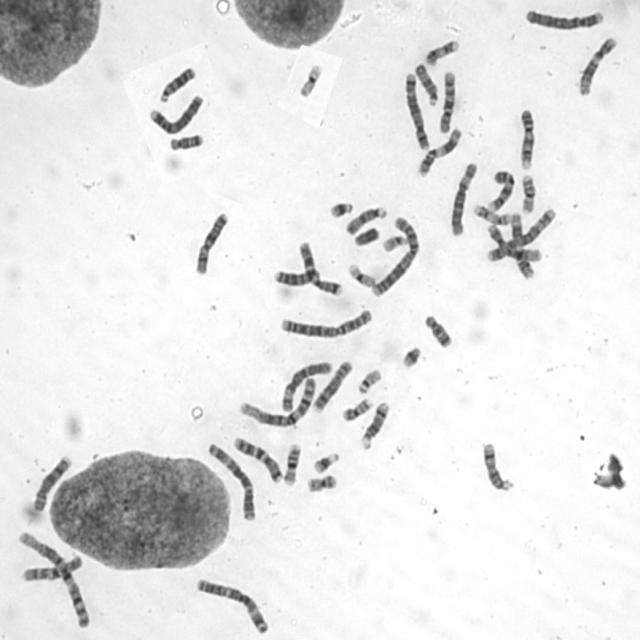A1: (16, 526, 93, 631), (236, 374, 317, 428)
A2: (368, 213, 421, 299), (276, 304, 374, 340)
A3: (192, 575, 270, 636), (205, 438, 258, 523)
B4: (145, 91, 206, 137), (522, 4, 606, 32)
B5: (484, 205, 558, 264), (402, 69, 431, 152)
C10: (19, 552, 85, 583), (437, 69, 457, 135)
C11: (414, 124, 462, 178), (509, 210, 536, 280)
C12: (576, 34, 619, 96), (486, 222, 543, 262)
C6: (278, 358, 333, 414), (448, 158, 480, 238)
C7: (230, 432, 284, 486), (297, 238, 344, 298)
C8: (27, 452, 72, 516), (312, 358, 354, 414)
C9: (485, 168, 517, 214), (518, 106, 536, 172)
D13: (157, 63, 197, 104), (271, 264, 320, 287)
D14: (479, 438, 516, 494), (358, 398, 391, 451)
D15: (343, 204, 388, 236), (412, 60, 440, 107)
E16: (281, 440, 302, 488), (518, 171, 538, 215)
E17: (471, 200, 515, 226), (423, 37, 460, 67)
E18: (422, 311, 454, 349), (167, 130, 205, 152)
F19: (296, 61, 324, 98), (346, 260, 377, 289)
F20: (341, 394, 374, 422), (305, 471, 339, 493)
G21: (311, 448, 341, 474), (327, 199, 355, 219), (400, 344, 423, 368)
G22: (355, 365, 384, 394), (379, 233, 408, 253)
X: (192, 209, 230, 276)
Y: (351, 224, 381, 248)
